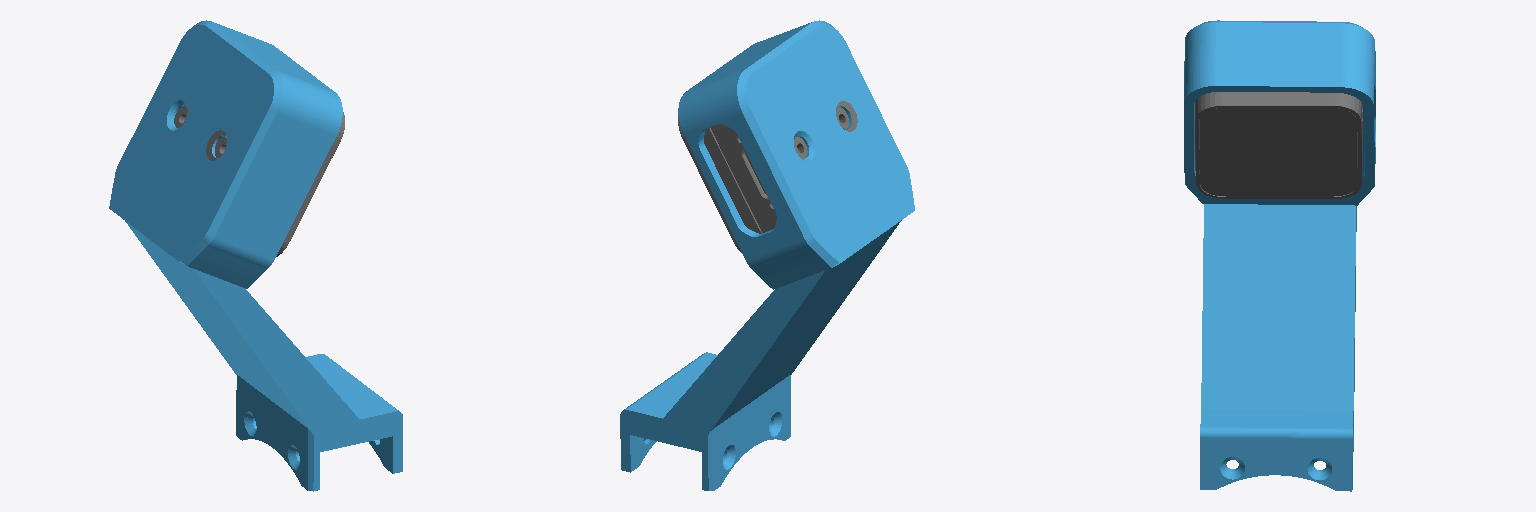
robot.urdf — rebot_wrist_d405:
<?xml version="1.0"?>
<!-- Generated by scripts/build-wrist-camera-urdfs.py; see ../README.md. -->
<robot name="rebot_wrist_d405">
  <link name="gripper_end" />
  <material name="aluminum">
    <color rgba="0.5 0.5 0.5 1" />
  </material>
  <material name="plastic">
    <color rgba="0.1 0.1 0.1 1" />
  </material>
  <link name="camera_mount_link">
    <visual>
      <origin rpy="0 0 0" xyz="0 0 0" />
      <geometry>
        <mesh filename="../meshes/mounts/D405_305_Mount.stl" scale="0.001 0.001 0.001" />
      </geometry>
    </visual>
  </link>
  <joint name="gripper_to_mount" type="fixed">
    <parent link="gripper_end" />
    <child link="camera_mount_link" />
    <origin rpy="1.5827 0.0024 1.5515" xyz="-0.1201 0.0003 0.0507" />
  </joint>
  <joint name="camera_joint" type="fixed">
    <origin rpy="-0.0225 -1.0448 -1.5460" xyz="-0.0003 0.0443 -0.0093" />
    <parent link="camera_mount_link" />
    <child link="camera_bottom_screw_frame" />
  </joint>
  <link name="camera_bottom_screw_frame" />
  <joint name="camera_link_joint" type="fixed">
    <origin rpy="0 0 0" xyz="0.01085 0.009 0.021" />
    <parent link="camera_bottom_screw_frame" />
    <child link="camera_link" />
  </joint>
  <link name="camera_link">
    <visual>
      <origin rpy="1.5707963267948966 0 1.5707963267948966" xyz="0.0038 -0.009 0" />
      <geometry>
        <mesh filename="../meshes/realsense/d405.stl" scale="0.001 0.001 0.001" />
      </geometry>
      <material name="aluminum" />
    </visual>
    <collision>
      <origin rpy="0 0 0" xyz="-0.0078 -0.009 0" />
      <geometry>
        <box size="0.023 0.042 0.042" />
      </geometry>
    </collision>
    <inertial>
      <mass value="0.072" />
      <origin xyz="0 0 0" />
      <inertia ixx="0.003881243" ixy="0.0" ixz="0.0" iyy="0.000498940" iyz="0.0" izz="0.003879257" />
    </inertial>
  </link>
  <joint name="camera_depth_joint" type="fixed">
    <origin rpy="0 0 0" xyz="0 0 0" />
    <parent link="camera_link" />
    <child link="camera_depth_frame" />
  </joint>
  <link name="camera_depth_frame" />
  <joint name="camera_depth_optical_joint" type="fixed">
    <origin rpy="-1.5707963267948966 0 -1.5707963267948966" xyz="0 0 0" />
    <parent link="camera_depth_frame" />
    <child link="camera_depth_optical_frame" />
  </joint>
  <link name="camera_depth_optical_frame" />
  <joint name="camera_infra1_joint" type="fixed">
    <origin rpy="0 0 0" xyz="0 0.0 0" />
    <parent link="camera_link" />
    <child link="camera_infra1_frame" />
  </joint>
  <link name="camera_infra1_frame" />
  <joint name="camera_infra1_optical_joint" type="fixed">
    <origin rpy="-1.5707963267948966 0 -1.5707963267948966" xyz="0 0 0" />
    <parent link="camera_infra1_frame" />
    <child link="camera_infra1_optical_frame" />
  </joint>
  <link name="camera_infra1_optical_frame" />
  <joint name="camera_infra2_joint" type="fixed">
    <origin rpy="0 0 0" xyz="0 -0.018 0" />
    <parent link="camera_link" />
    <child link="camera_infra2_frame" />
  </joint>
  <link name="camera_infra2_frame" />
  <joint name="camera_infra2_optical_joint" type="fixed">
    <origin rpy="-1.5707963267948966 0 -1.5707963267948966" xyz="0 0 0" />
    <parent link="camera_infra2_frame" />
    <child link="camera_infra2_optical_frame" />
  </joint>
  <link name="camera_infra2_optical_frame" />
  <joint name="camera_color_joint" type="fixed">
    <origin rpy="0 0 0" xyz="0 0.0 0" />
    <parent link="camera_link" />
    <child link="camera_color_frame" />
  </joint>
  <link name="camera_color_frame" />
  <joint name="camera_color_optical_joint" type="fixed">
    <origin rpy="-1.5707963267948966 0 -1.5707963267948966" xyz="0 0 0" />
    <parent link="camera_color_frame" />
    <child link="camera_color_optical_frame" />
  </joint>
  <link name="camera_color_optical_frame" />
</robot>

--- Render facts (derived) ---
3 views of the same robot in one strip: view 1: azimuth 30°, elevation 25°; view 2: azimuth 150°, elevation 25°; view 3: azimuth 270°, elevation 25° (orthographic).
Robot: rebot_wrist_d405 — 12 links, 11 joints (11 fixed); root link gripper_end; default pose: all joints at 0.
Links seen in each view (by area): view 1: camera_mount_link, camera_link; view 2: camera_mount_link, camera_link; view 3: camera_mount_link, camera_link.
Boxes of the visible links, x1,y1,x2,y2 form: camera_mount_link: [109, 20, 402, 491]; camera_link: [174, 106, 344, 256]; camera_mount_link: [620, 20, 914, 490]; camera_link: [678, 101, 857, 252]; camera_mount_link: [1184, 20, 1375, 491]; camera_link: [1195, 92, 1362, 198].
Bounding box of the posed robot: 0.0625 × 0.0486 × 0.1146 m (x, y, z).
2 mesh visuals loaded from 2 distinct referenced files (2 binary STL).
